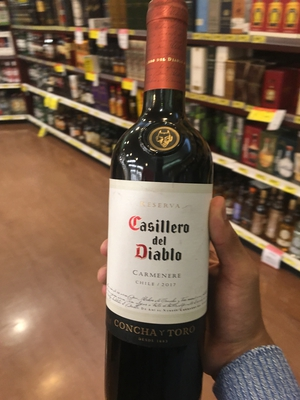casillero del diablo carmenere: (105, 16, 227, 400)
